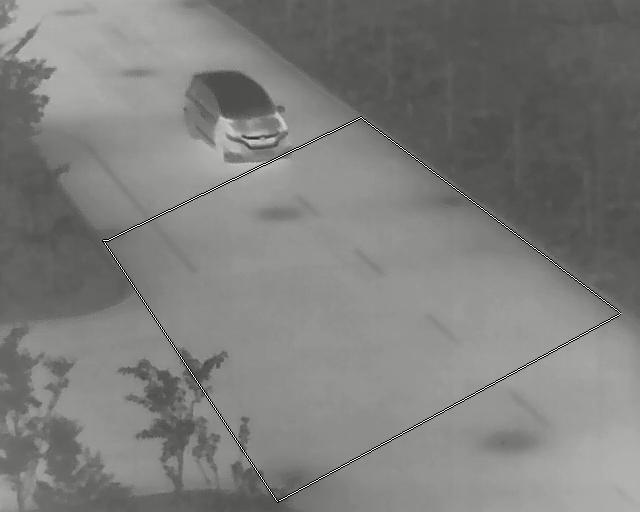vehicle: (183, 71, 293, 164)
